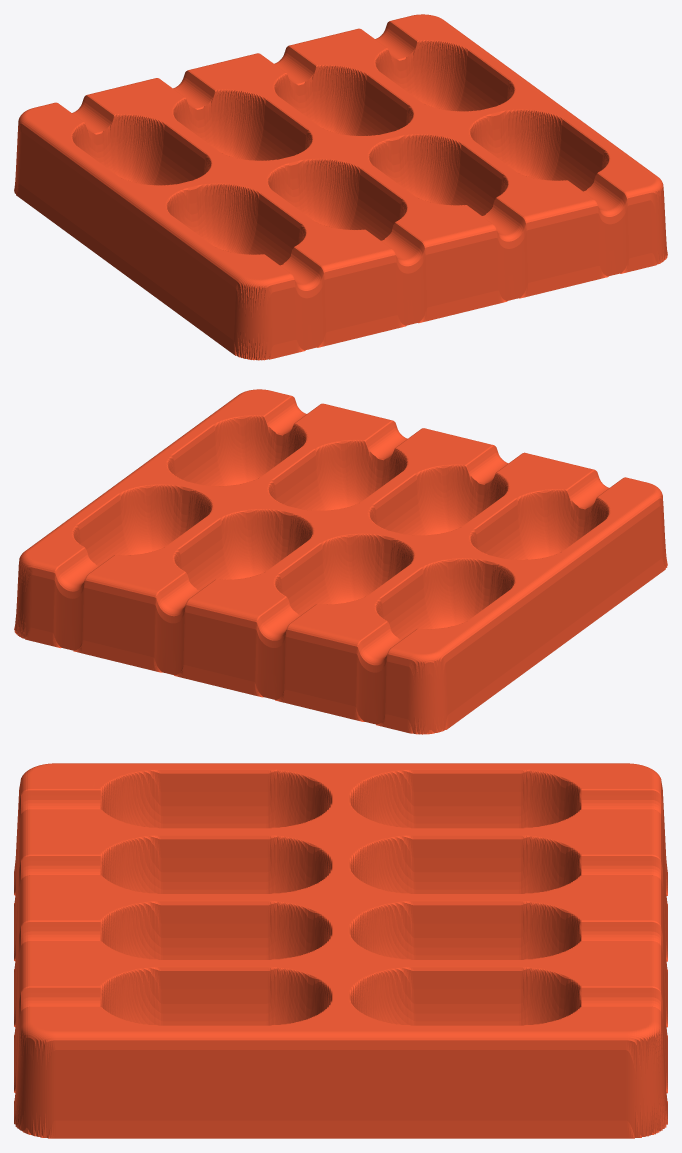
The model's file is mold.glb.
3 renders of one model, top to bottom at view 1: azimuth 30°, elevation 25°; view 2: azimuth 150°, elevation 25°; view 3: azimuth 270°, elevation 25°, orthographic. The views are drawn at different scales.
Visible parts, largest first — view 1: geometry_0; view 2: geometry_0; view 3: geometry_0.
Boxes of the visible parts, x1,y1,x2,y2 form: geometry_0: (14, 14, 667, 360); geometry_0: (14, 389, 667, 734); geometry_0: (14, 763, 667, 1138).
Size of the model in its own units: 0.1469 by 0.0245 by 0.1446.
